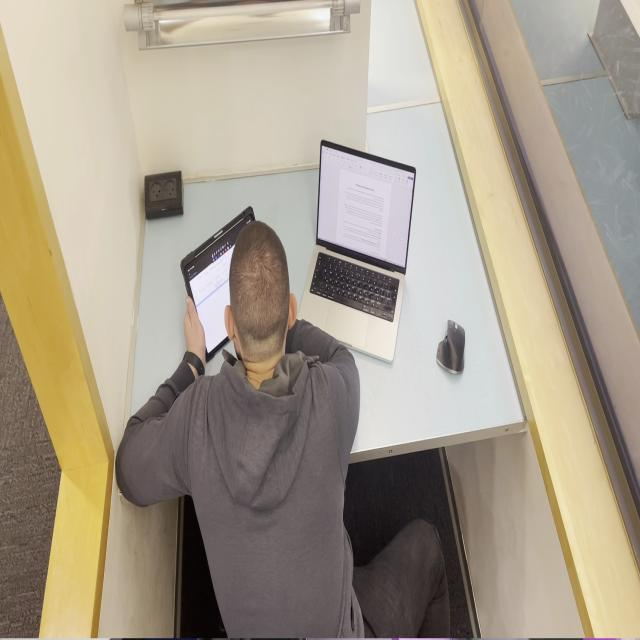bag: (179, 204, 256, 363)
ipad: (115, 220, 450, 640)
laptop: (296, 138, 416, 364)
mouse: (431, 314, 473, 379)
